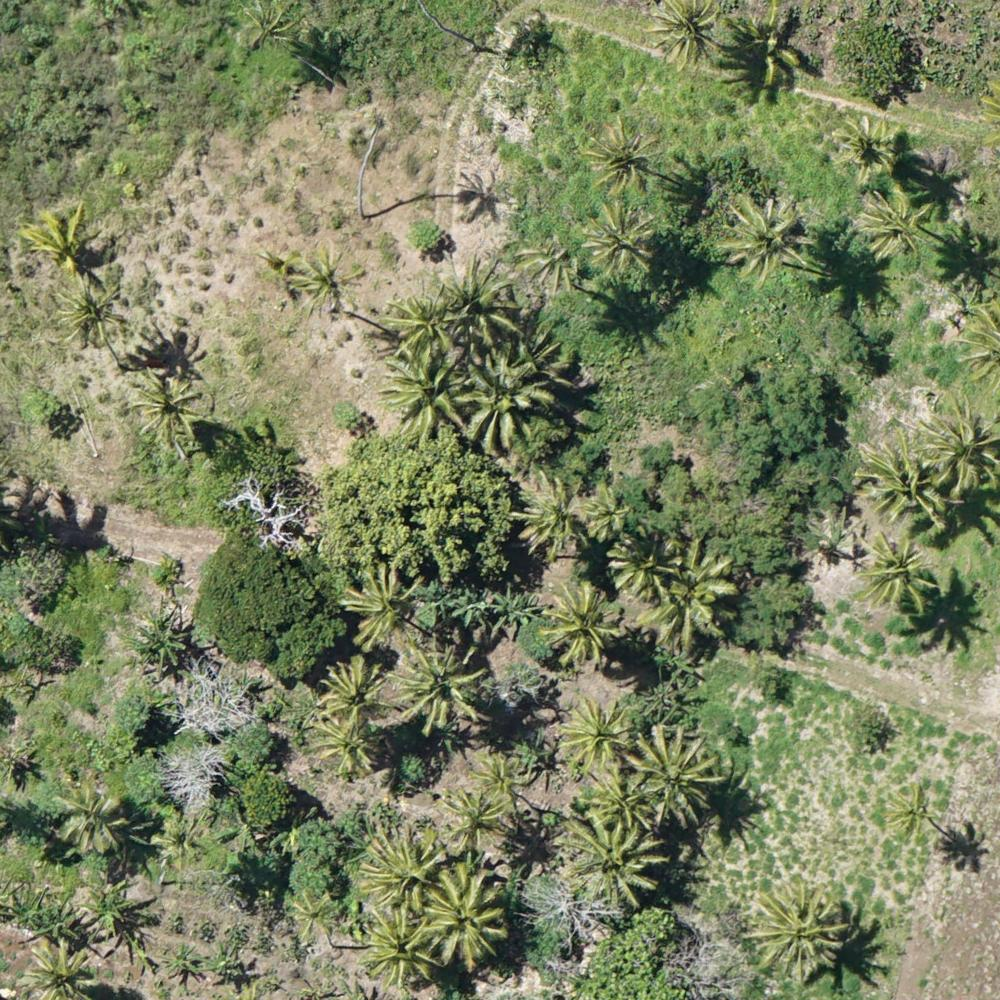Palm: (562, 813, 665, 914), (419, 865, 515, 968), (749, 881, 847, 975), (631, 726, 721, 825), (718, 191, 807, 285), (851, 439, 941, 530), (395, 639, 486, 728), (457, 352, 546, 440), (378, 360, 471, 440), (919, 405, 1000, 496), (545, 578, 625, 668), (359, 827, 445, 910), (440, 256, 524, 340), (509, 469, 595, 548), (339, 565, 419, 647), (359, 904, 437, 988), (862, 532, 935, 611), (855, 189, 934, 261), (582, 118, 658, 191), (51, 782, 123, 858), (388, 291, 462, 363), (585, 200, 655, 275), (131, 369, 205, 439), (48, 278, 118, 351), (562, 698, 633, 768), (584, 767, 655, 834), (289, 249, 356, 318), (307, 710, 378, 775), (23, 204, 88, 274), (831, 115, 897, 183), (649, 4, 720, 63), (323, 651, 382, 715), (147, 812, 206, 874), (446, 784, 512, 838), (883, 777, 940, 838), (284, 886, 342, 945), (475, 747, 536, 798), (579, 482, 630, 536)
